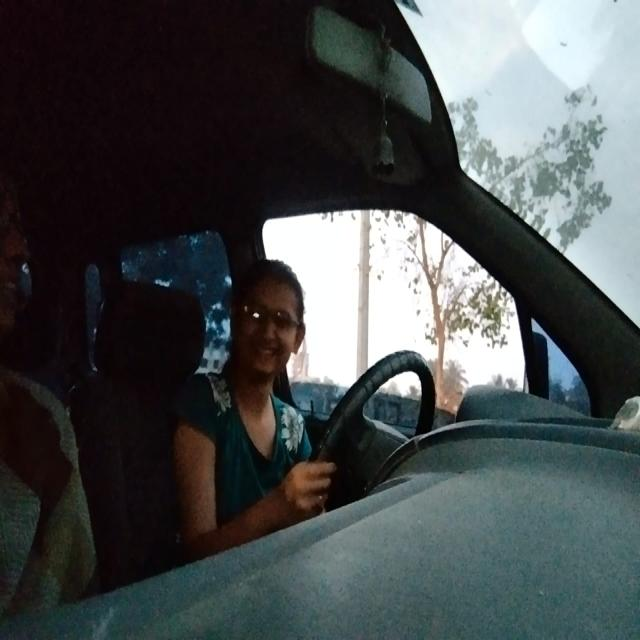LeftRight: (227, 259, 315, 385)
person: (1, 180, 38, 349)
